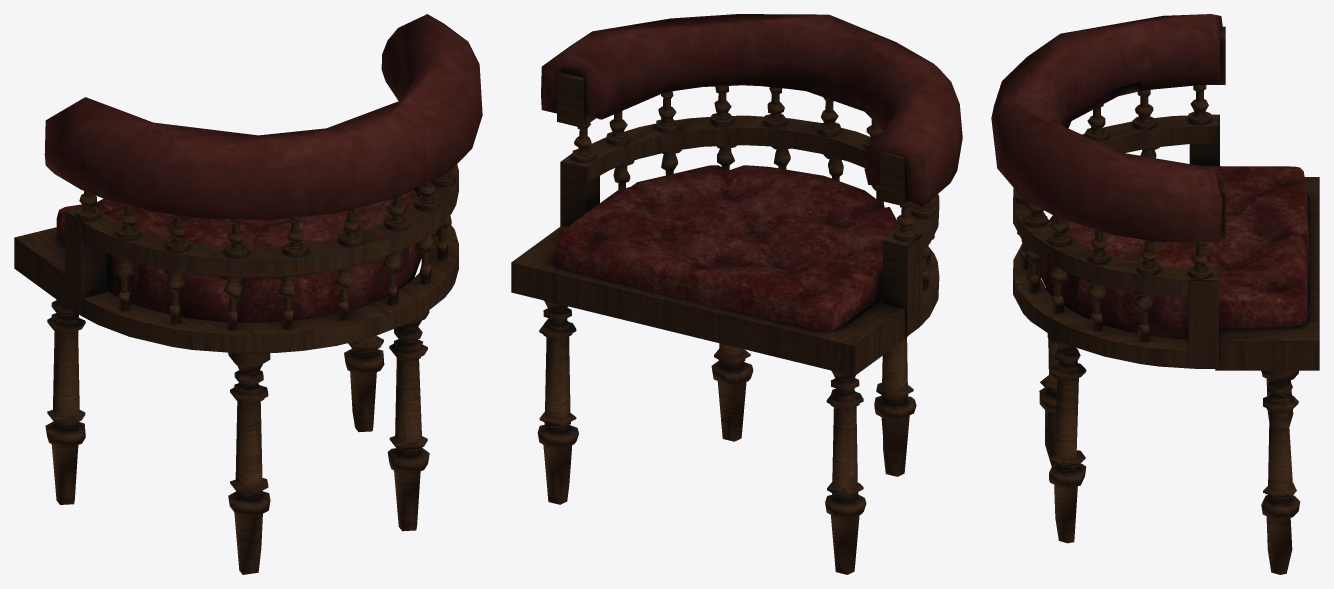
Rendered from worn_leather_office_chair.glb.
The picture shows the model from 3 angles, left to right: view 1: azimuth 30°, elevation 25°; view 2: azimuth 150°, elevation 25°; view 3: azimuth 270°, elevation 25°; orthographic projection. The views are drawn at different scales.
Visible parts, largest first — view 1: Leather Top, Chair Arc, Wood Legs, Leather Seating, Chair Details, Wood Front; view 2: Leather Seating, Leather Top, Wood Front, Wood Legs, Chair Arc, Chair Details; view 3: Leather Top, Leather Seating, Chair Arc, Wood Legs, Wood Front, Chair Details.
Part boxes in pixels (x1,y1,x2,y2): Leather Top: (44, 14, 482, 219); Chair Arc: (66, 164, 458, 353); Wood Legs: (45, 299, 429, 574); Leather Seating: (56, 189, 421, 322); Chair Details: (75, 173, 454, 330); Wood Front: (14, 187, 420, 315); Leather Seating: (555, 165, 898, 332); Leather Top: (541, 14, 962, 207); Wood Front: (511, 72, 922, 375); Wood Legs: (537, 300, 916, 574); Chair Arc: (562, 84, 939, 336); Chair Details: (572, 86, 935, 289); Leather Top: (991, 14, 1222, 242); Leather Seating: (1038, 166, 1309, 339); Chair Arc: (1013, 84, 1218, 368); Wood Legs: (1039, 333, 1300, 574); Wood Front: (1188, 26, 1319, 370); Chair Details: (1014, 85, 1211, 342).
Bounding box in the file's own units: 3.22 × 3.31 × 2.39.
6 materials, 6 textured.
